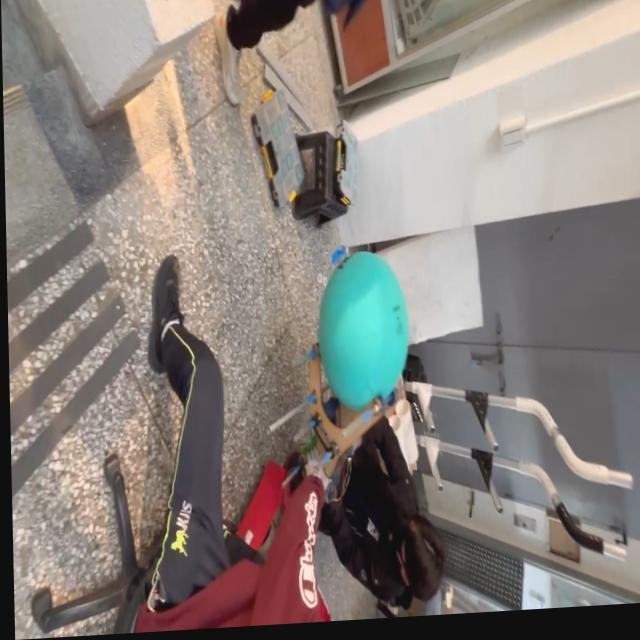ALGAE: (314, 246, 411, 413)
